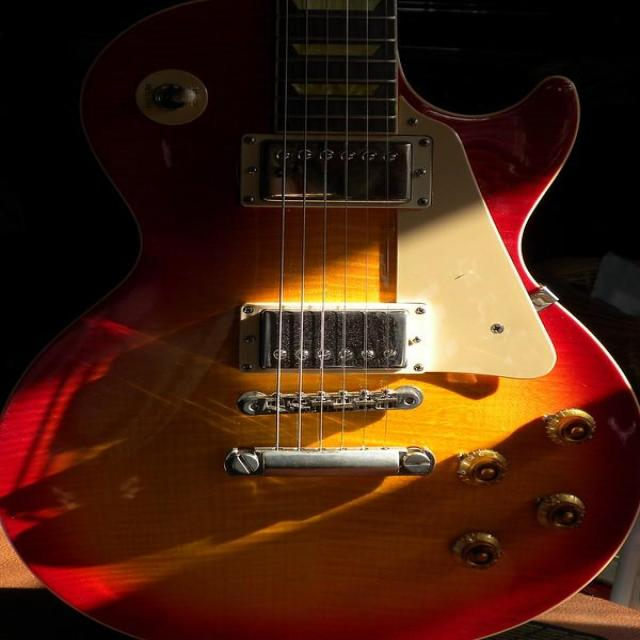guitar: (0, 0, 638, 639)
